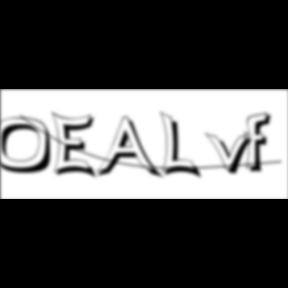A: (96, 116, 166, 182)
E: (52, 110, 101, 182)
L: (160, 110, 204, 182)
O: (1, 117, 60, 176)
f: (244, 111, 278, 175)
v: (205, 131, 259, 177)
